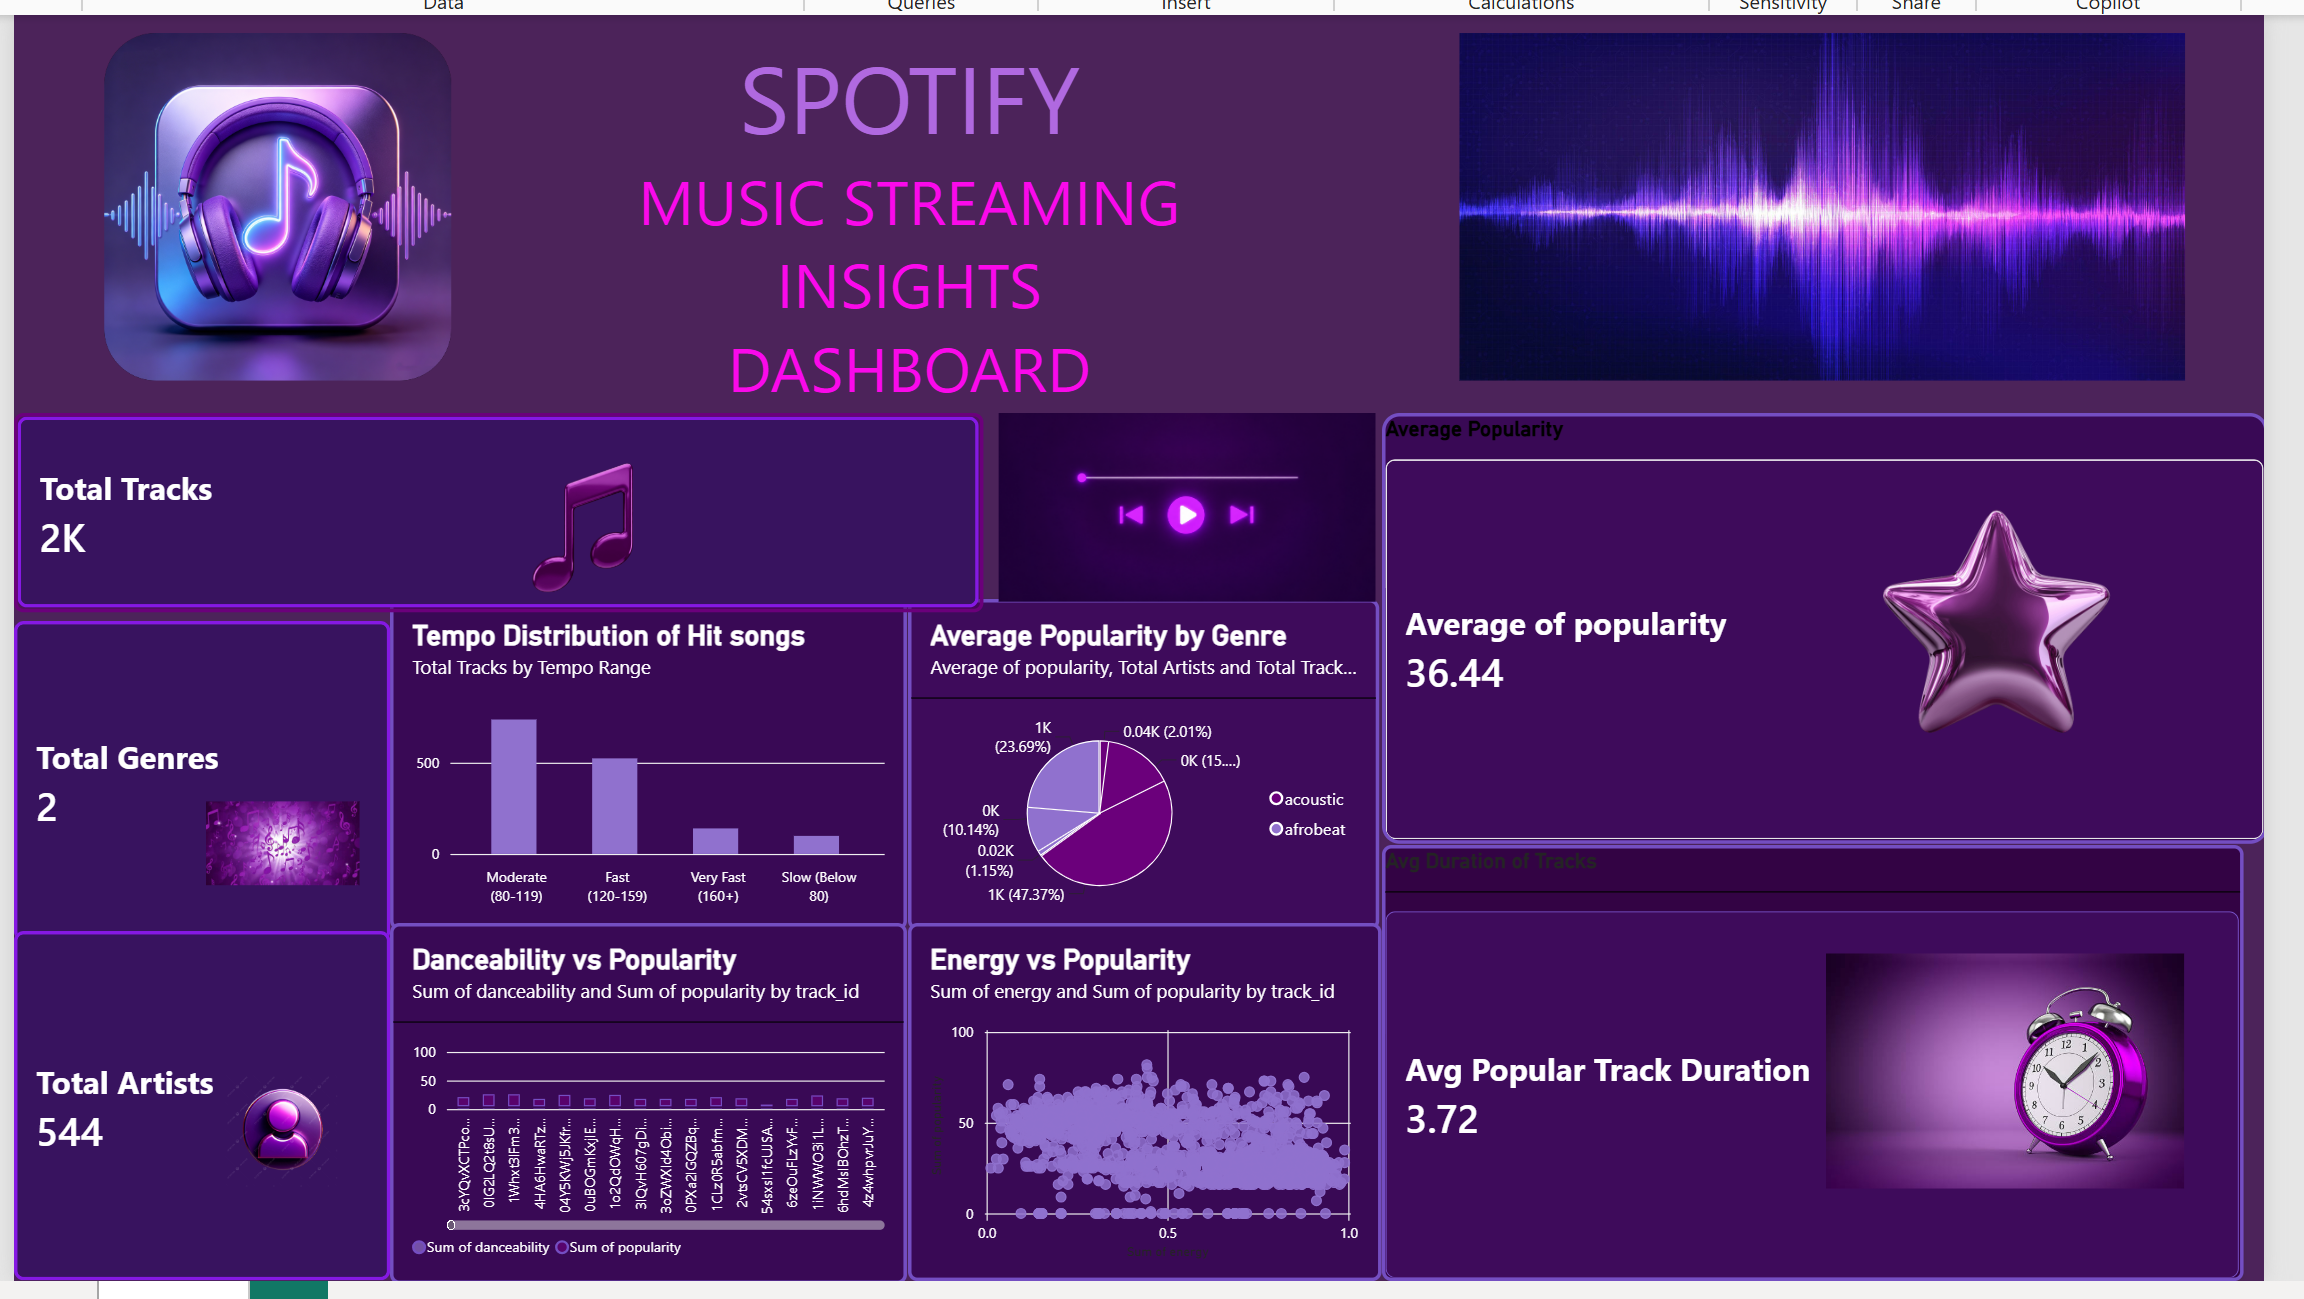

The dashboard page shown, as its layout file describes it:
{"tool":"powerbi","page":{"name":"Page 1","canvas":[1920,1080],"ordinal":0},"visuals":[{"type":"cardVisual","title":"Average Popularity","fields":{"Data":["Avg(SpotifyCleaned Dataset.popularity)"]},"box":[1166.7,339.9,755.6,367.5],"z":0},{"type":"pieChart","title":"Average Popularity by Genre","fields":{"Category":["SpotifyCleaned Dataset.genre"],"Y":["Avg(SpotifyCleaned Dataset.popularity)","Cleaned Dataset (2).Total Artists","Cleaned Dataset (2).Total Tracks"]},"box":[762.5,498.4,401.9,282.5],"z":1000},{"type":"scatterChart","title":"Energy vs Popularity","fields":{"Category":["SpotifyCleaned Dataset.track_id"],"X":["Sum(SpotifyCleaned Dataset.energy)"],"Y":["Sum(SpotifyCleaned Dataset.popularity)"]},"box":[762.5,774,404.2,305.5],"z":2000},{"type":"clusteredColumnChart","title":"Tempo Distribution of Hit songs","fields":{"Category":["SpotifyCleaned Dataset.Tempo Range"],"Y":["Cleaned Dataset (2).Total Tracks"]},"box":[321.5,498.4,441,282.5],"z":3000},{"type":"columnChart","title":"Danceability vs Popularity","fields":{"Category":["SpotifyCleaned Dataset.track_id"],"Y":["Sum(SpotifyCleaned Dataset.danceability)","Sum(SpotifyCleaned Dataset.popularity)"]},"box":[321.5,774,441,307.8],"z":4000},{"type":"cardVisual","title":"Avg Duration of Tracks","fields":{"Data":["Cleaned Dataset (2).Avg Popular Track Duration"]},"box":[1166.7,707.4,734.9,372.1],"z":5000},{"type":"cardVisual","fields":{"Data":["Cleaned Dataset (2).Total Tracks"]},"box":[0,339.9,826.8,170],"z":6000},{"type":"cardVisual","fields":{"Data":["Cleaned Dataset (2).Total Genres"]},"box":[0,516.7,321.5,273.3],"z":7000},{"type":"cardVisual","fields":{"Data":["Cleaned Dataset (2).Total Artists"]},"box":[0,780.9,321.5,298.6],"z":8000},{"type":"image","box":[1534.2,383.5,314.6,266.4],"z":9000},{"type":"image","box":[408.8,360.6,151.6,156.2],"z":10000},{"type":"image","box":[163.1,569.6,130.9,273.3],"z":11000},{"type":"image","box":[179.1,875,96.5,151.6],"z":12000},{"type":"textbox","box":[1669.7,353.7,250.3,121.7],"z":13000},{"type":"textbox","box":[1670,893,250,150],"z":14000},{"type":"image","box":[1545.6,774,305.5,252.6],"z":15000},{"type":"image","box":[0,16.1,450.1,296.3],"z":16000},{"type":"image","box":[1164.4,16.1,757.9,296.3],"z":17000},{"type":"textbox","box":[450.1,16.1,627,367.5],"z":18000},{"type":"image","box":[408.8,339.9,1182.8,160.8],"z":18001}]}

Visuals, with their boxes in screenshot pixels (x1, y1, x2, y2):
"Average Popularity" cardVisual: [1387, 396, 2281, 831]
"Average Popularity by Genre" pieChart: [908, 584, 1384, 918]
"Energy vs Popularity" scatterChart: [908, 910, 1387, 1271]
"Tempo Distribution of Hit songs" clusteredColumnChart: [386, 584, 908, 918]
"Danceability vs Popularity" columnChart: [386, 910, 908, 1274]
"Avg Duration of Tracks" cardVisual: [1387, 831, 2256, 1271]
cardVisual - Cleaned Dataset (2).Total Tracks: [6, 396, 984, 597]
cardVisual - Cleaned Dataset (2).Total Genres: [6, 605, 386, 929]
cardVisual - Cleaned Dataset (2).Total Artists: [6, 918, 386, 1271]
image: [1822, 448, 2194, 763]
image: [490, 421, 669, 606]
image: [199, 668, 354, 991]
image: [218, 1029, 332, 1209]
textbox: [1982, 413, 2278, 557]
textbox: [1982, 1051, 2278, 1228]
image: [1835, 910, 2197, 1209]
image: [6, 13, 539, 364]
image: [1384, 13, 2281, 364]
textbox: [539, 13, 1281, 448]
image: [490, 396, 1890, 587]
